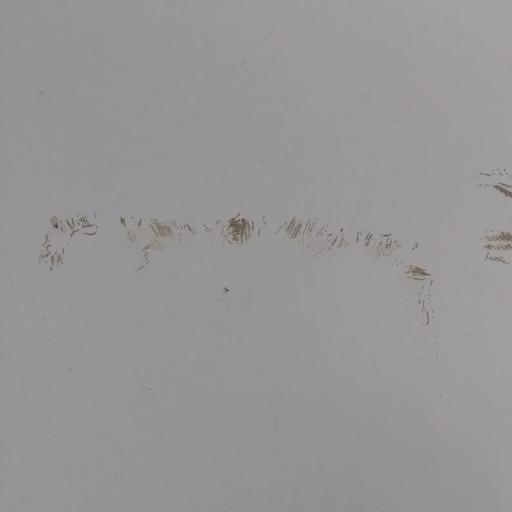stain: (32, 184, 512, 329), (469, 156, 512, 294)
